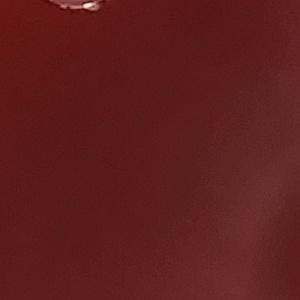colony: (36, 0, 114, 24)
